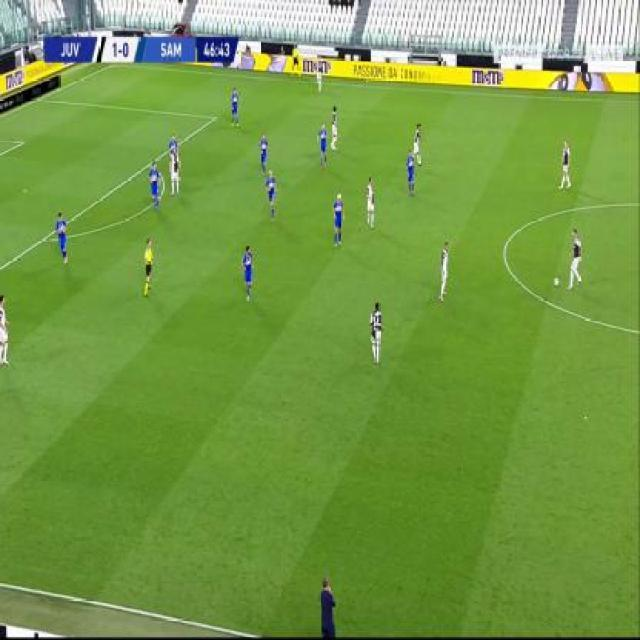ball: (552, 275, 560, 288)
player: (315, 572, 340, 638), (566, 227, 583, 290), (368, 300, 384, 365), (239, 242, 255, 301), (54, 209, 70, 265), (437, 238, 451, 301), (0, 289, 11, 369), (141, 235, 154, 298), (332, 191, 346, 247), (149, 159, 163, 213), (558, 137, 572, 190), (265, 168, 278, 221), (316, 122, 329, 170), (169, 140, 180, 196), (412, 123, 426, 166), (366, 175, 377, 229), (406, 148, 417, 197), (329, 104, 340, 152), (259, 132, 270, 177), (229, 86, 240, 129), (291, 42, 302, 76), (315, 53, 324, 92), (168, 135, 179, 158)
